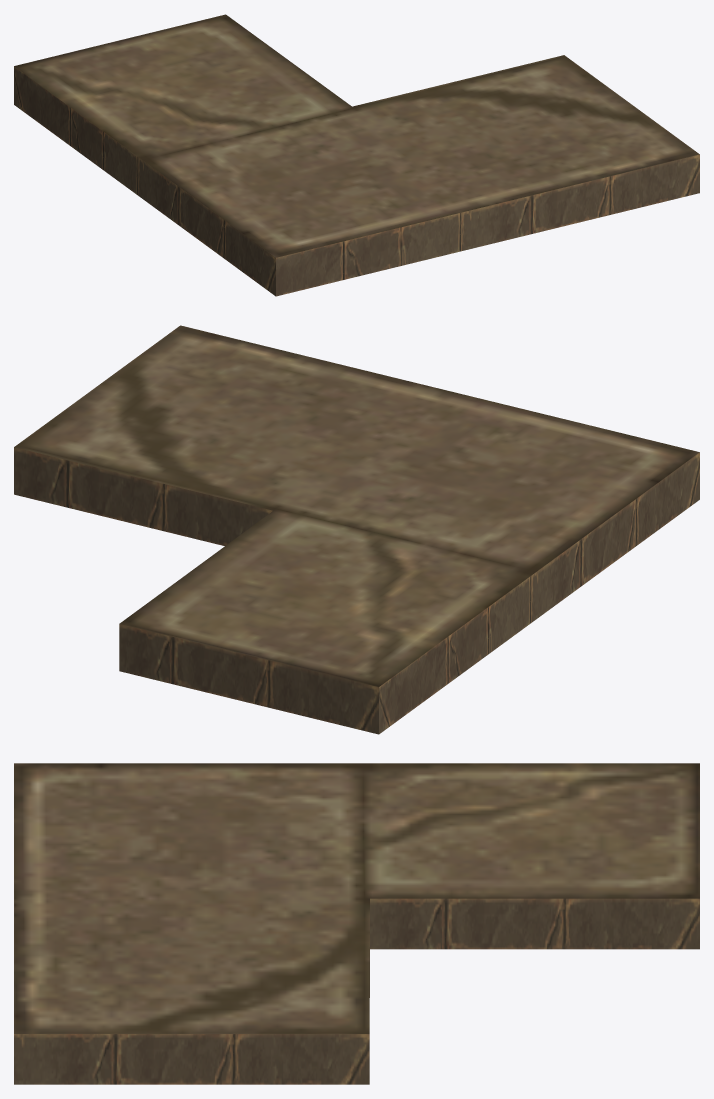
The model's file is A_dizhuan_004.fbx.
3 views of the same model, one above another, from view 1: azimuth 30°, elevation 25°; view 2: azimuth 150°, elevation 25°; view 3: azimuth 270°, elevation 25° (orthographic). The views are drawn at different scales.
Parts seen in each view (by area): view 1: A_dizhuan_004; view 2: A_dizhuan_004; view 3: A_dizhuan_004.
Boxes of the visible parts, x1,y1,x2,y2 form: A_dizhuan_004: (14,14,699,296); A_dizhuan_004: (14,325,699,734); A_dizhuan_004: (14,763,699,1084).
Bounding box in the file's own units: 39.56 × 3.45 × 42.33.
